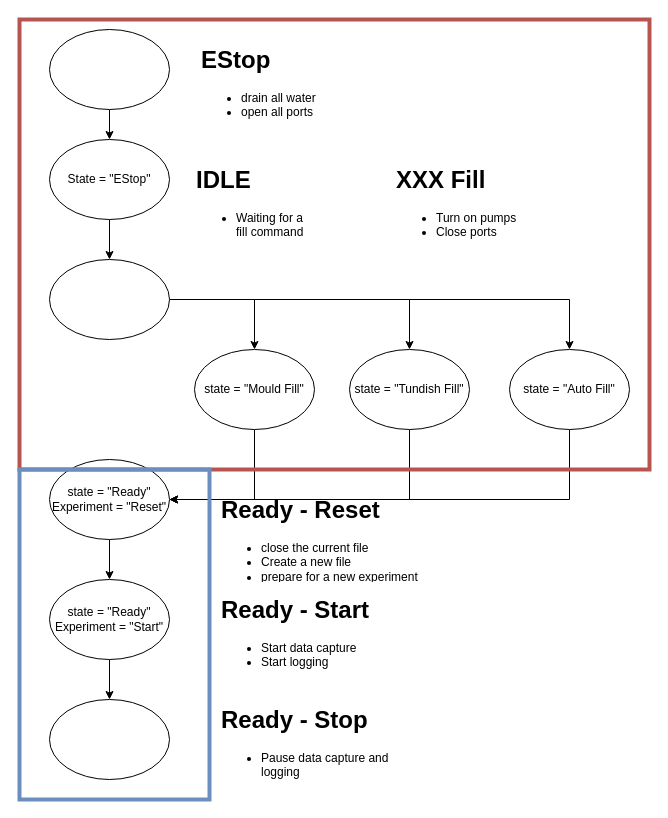
Some shapes in this 668 by 818 pixel diagram are drawn without their labels. Here are the shapes that lost their labels. From the top down, the box of each, then its label:
(48, 28, 170, 110): Start
(48, 258, 170, 340): state = "IDLE"
(48, 698, 170, 780): state = "Ready" Experiment = "Stop"
